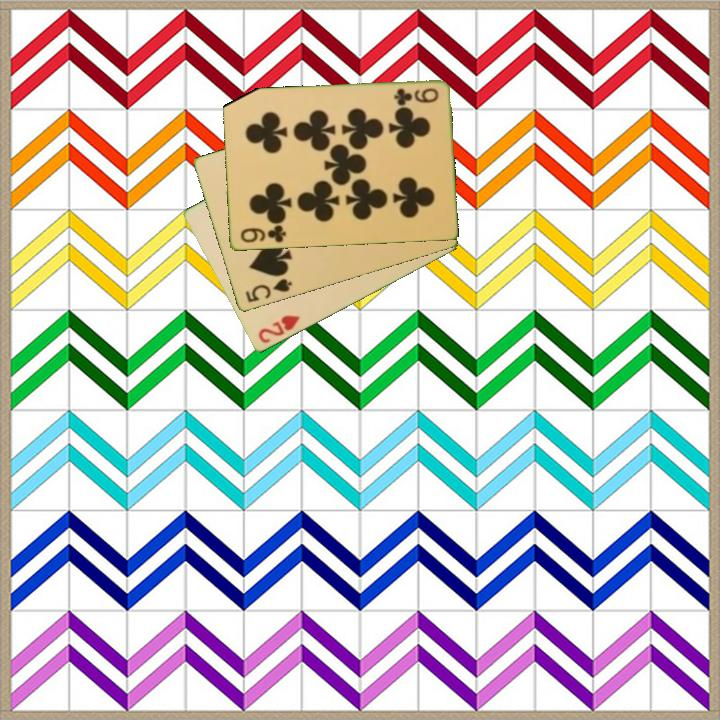2h: (254, 312, 303, 347)
5s: (242, 275, 295, 306)
9c: (237, 222, 288, 246), (391, 85, 441, 107)
